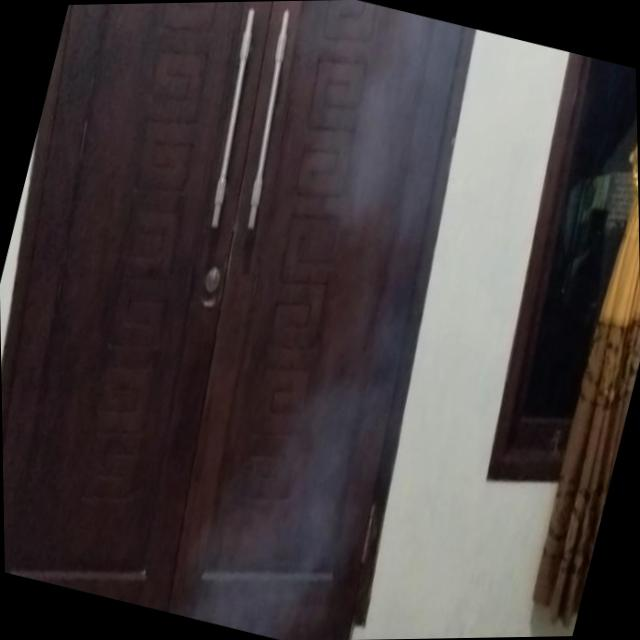smoke: (194, 27, 519, 640)
